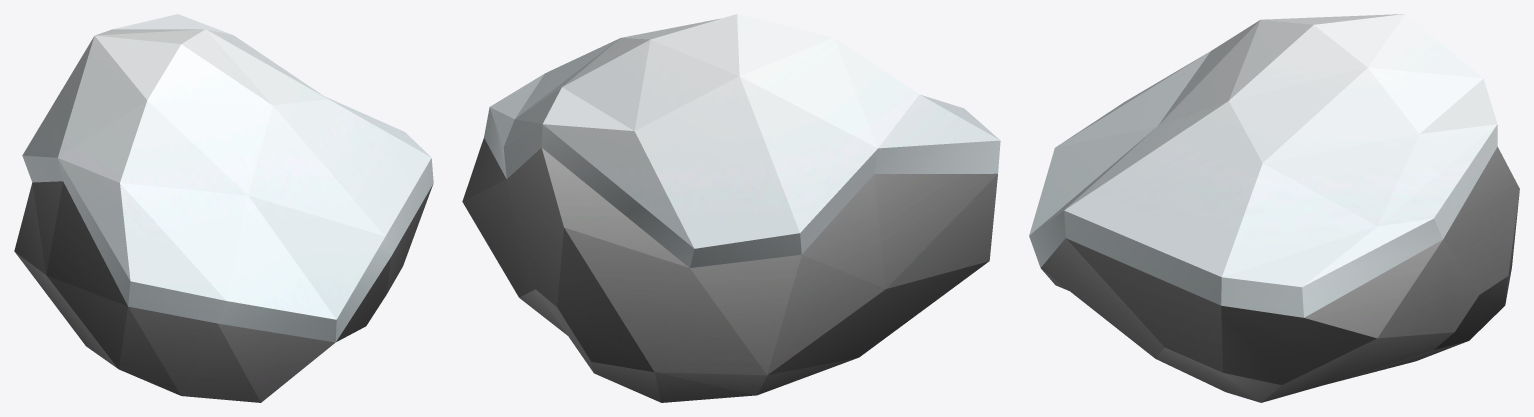
The picture shows the model from 3 angles, left to right: view 1: azimuth 30°, elevation 25°; view 2: azimuth 150°, elevation 25°; view 3: azimuth 270°, elevation 25°; orthographic projection. The views are drawn at different scales.
Visible parts, largest first — view 1: SnowyRock1; view 2: SnowyRock1; view 3: SnowyRock1.
Boxes of the visible parts, x1=… form: SnowyRock1: x1=14, y1=14, x2=433, y2=402; SnowyRock1: x1=462, y1=14, x2=1000, y2=402; SnowyRock1: x1=1029, y1=14, x2=1519, y2=402.
Bounding box in the file's own units: 74.82 × 60 × 81.56.
Materials: 1 (1 with a texture image).
